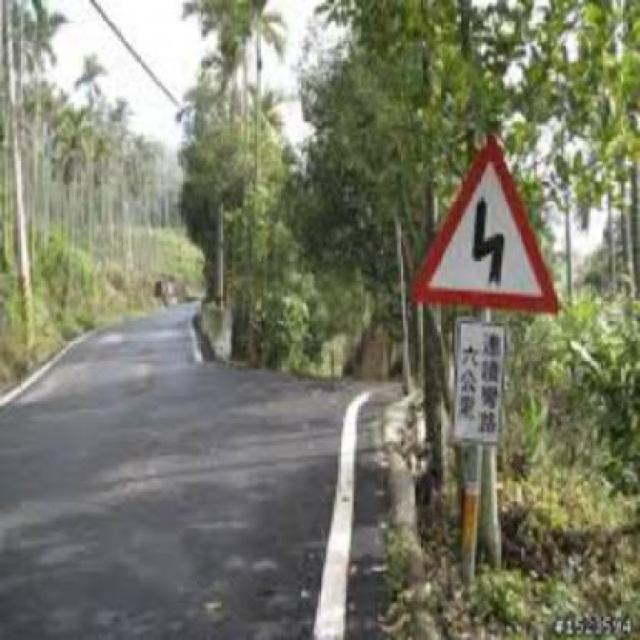warn_double_curve: (407, 137, 562, 316)
